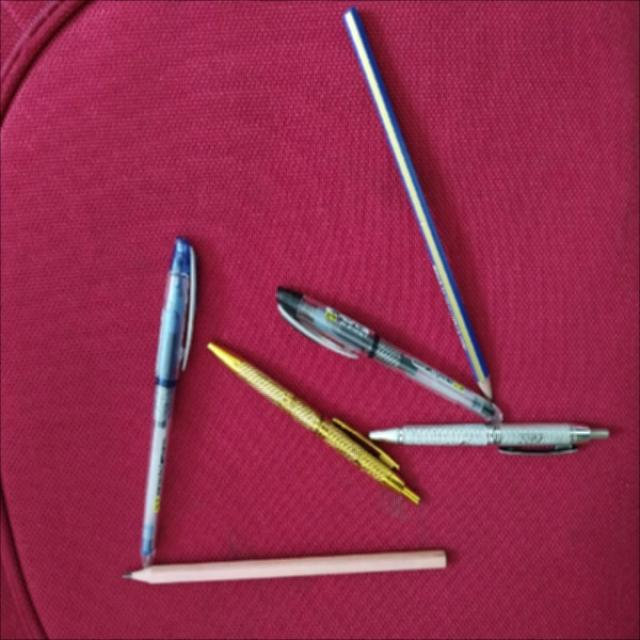pen: (277, 288, 500, 421), (139, 235, 196, 568)
pencil: (346, 7, 490, 398), (121, 547, 444, 585)
signature pen: (208, 342, 418, 502), (366, 421, 606, 448)
